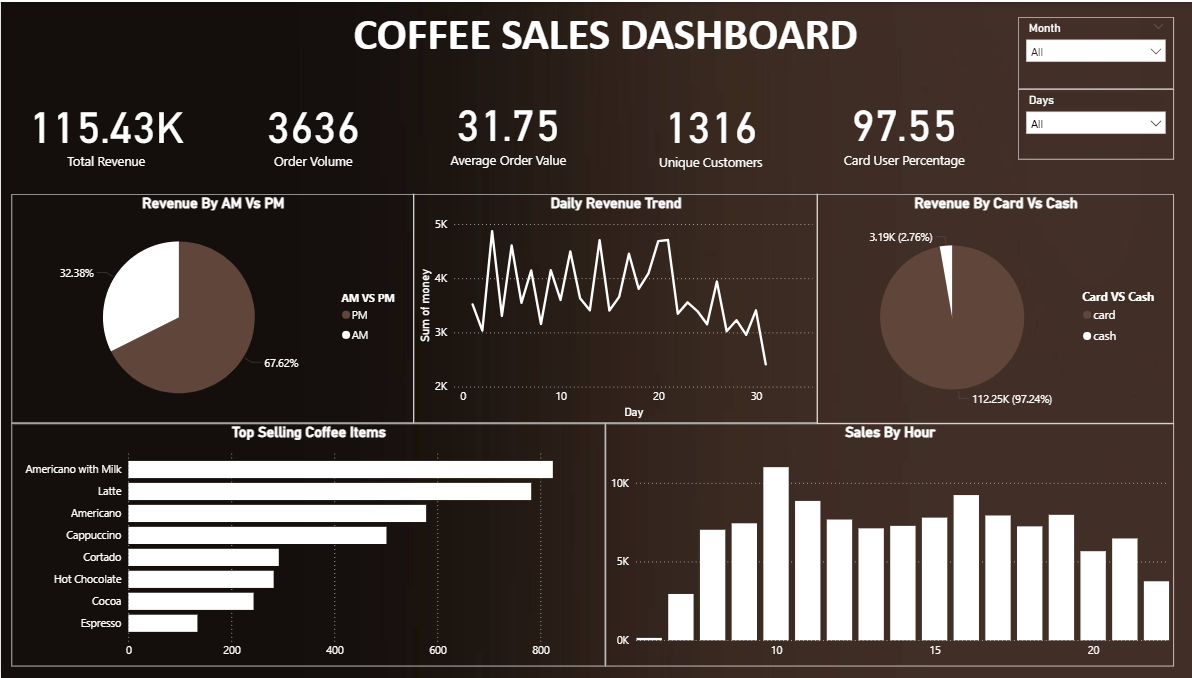

What the dashboard file says about the page in this screenshot:
{"tool":"powerbi","page":{"name":"Page 1","canvas":[1500,850],"ordinal":0},"visuals":[{"type":"card","fields":{"Values":["Sum(coffee_sales_2024_clean (1).money)"]},"box":[13.2,86.8,237.7,149],"z":0},{"type":"card","fields":{"Values":["CountNonNull(coffee_sales_2024_clean (1).payment_mode)"]},"box":[279.1,86.8,226.3,149],"z":1000},{"type":"card","fields":{"Values":["coffee_sales_2024_clean (1).average_revenue_per_transaction"]},"box":[514.9,84.9,245.2,149],"z":2000},{"type":"card","fields":{"Values":["CoffeeSales2024.Unique_Customers"]},"box":[786.5,90.5,211.2,143.3],"z":3000},{"type":"card","fields":{"Values":["CoffeeSales2024.Card_User_Percentage"]},"box":[1014.7,84.9,241.4,149],"z":4000},{"type":"barChart","title":"Top Selling Coffee Items","fields":{"Category":["CoffeeSales2024.coffee_name"],"Y":["CountNonNull(CoffeeSales2024.card_number)"]},"box":[13.2,530,746.9,305.6],"z":5000},{"type":"columnChart","title":"Sales By Hour","fields":{"Category":["CoffeeSales2024.hour"],"Y":["Sum(CoffeeSales2024.money)"]},"box":[760.1,530,714.8,305.6],"z":6000},{"type":"pieChart","title":"Revenue By AM Vs PM","fields":{"Y":["Sum(CoffeeSales2024.money)"],"Category":["CoffeeSales2024.am_pm"]},"box":[12.4,240.6,506,288.3],"z":7000},{"type":"lineChart","title":"Daily Revenue Trend","fields":{"Y":["Sum(CoffeeSales2024.money)"],"Category":["CoffeeSales2024.date.Variation.Date Hierarchy.Day"]},"box":[518.4,240.6,508.1,288.3],"z":8000},{"type":"slicer","fields":{"Values":["CoffeeSales2024.date.Variation.Date Hierarchy.Month"]},"box":[1278.8,18.9,196.2,90.5],"z":9000},{"type":"slicer","fields":{"Values":["CoffeeSales2024.day_name"]},"box":[1278.8,109.4,196.2,88.6],"z":10000},{"type":"textbox","box":[264.1,0,992.1,109.4],"z":11000},{"type":"pieChart","title":"Revenue By Card Vs Cash","fields":{"Category":["CoffeeSales2024.payment_mode"],"Y":["Sum(CoffeeSales2024.money)"]},"box":[1026.1,241.4,448.9,288.6],"z":12000}]}

Visuals, with their boxes in screenshot pixels (x1, y1, x2, y2), scaled from the page's 1500x850 canvas onto the 1192x678 screenshot:
card - Sum(coffee_sales_2024_clean (1).money): [left=10, top=69, right=199, bottom=188]
card - CountNonNull(coffee_sales_2024_clean (1).payment_mode): [left=222, top=69, right=402, bottom=188]
card - coffee_sales_2024_clean (1).average_revenue_per_transaction: [left=409, top=68, right=604, bottom=187]
card - CoffeeSales2024.Unique_Customers: [left=625, top=72, right=793, bottom=186]
card - CoffeeSales2024.Card_User_Percentage: [left=806, top=68, right=998, bottom=187]
"Top Selling Coffee Items" barChart: [left=10, top=423, right=604, bottom=667]
"Sales By Hour" columnChart: [left=604, top=423, right=1172, bottom=667]
"Revenue By AM Vs PM" pieChart: [left=10, top=192, right=412, bottom=422]
"Daily Revenue Trend" lineChart: [left=412, top=192, right=816, bottom=422]
slicer - CoffeeSales2024.date.Variation.Date Hierarchy.Month: [left=1016, top=15, right=1172, bottom=87]
slicer - CoffeeSales2024.day_name: [left=1016, top=87, right=1172, bottom=158]
textbox: [left=210, top=0, right=998, bottom=87]
"Revenue By Card Vs Cash" pieChart: [left=815, top=193, right=1172, bottom=423]
